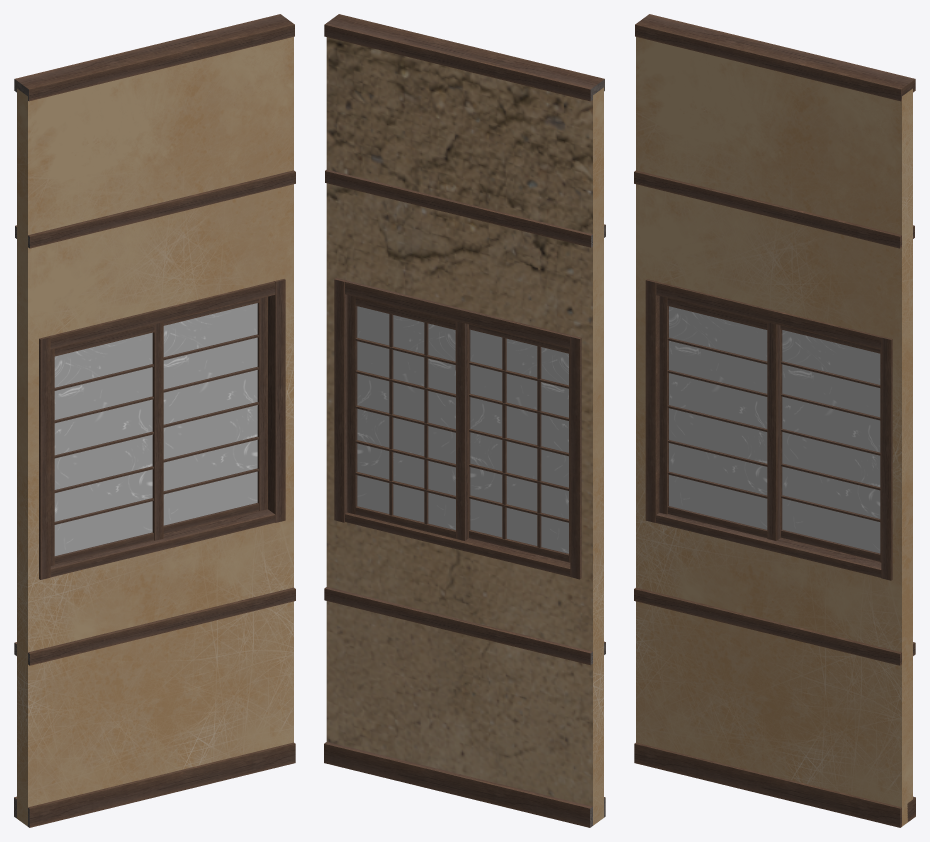
The model's file is intwall02_0t_w1.fbx.
3 views of the same model, side by side, from view 1: azimuth 30°, elevation 25°; view 2: azimuth 150°, elevation 25°; view 3: azimuth 330°, elevation 25° (orthographic).
Visible parts, largest first — view 1: intwall02_0t_w1; view 2: intwall02_0t_w1; view 3: intwall02_0t_w1.
Part boxes in pixels (x1=…): intwall02_0t_w1: x1=14, y1=14, x2=295, y2=827; intwall02_0t_w1: x1=324, y1=14, x2=605, y2=827; intwall02_0t_w1: x1=634, y1=14, x2=915, y2=827.
Bounding box in the file's own units: 110 × 292 × 11.34.
